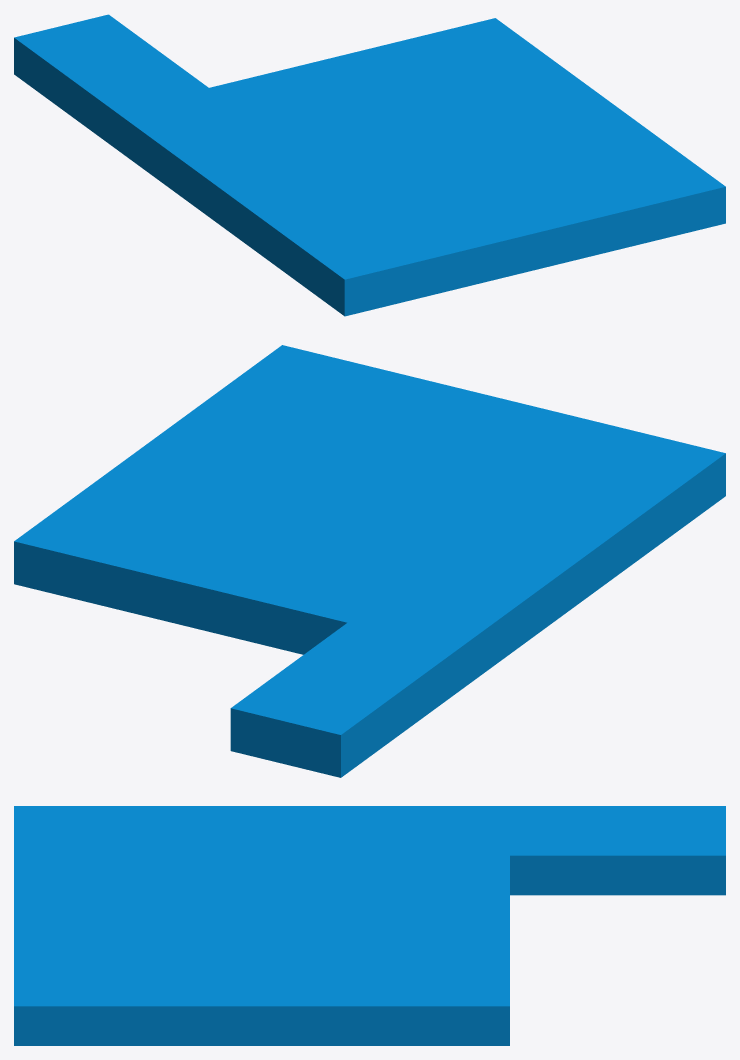
Rendered from Jigsaw_Color_03.fbx.
3 views of the same model, one above another, from view 1: azimuth 30°, elevation 25°; view 2: azimuth 150°, elevation 25°; view 3: azimuth 270°, elevation 25° (orthographic). The views are drawn at different scales.
Visible parts, largest first — view 1: Jigsaw_Color_03; view 2: Jigsaw_Color_03; view 3: Jigsaw_Color_03.
Boxes of the visible parts, x1,y1,x2,y2 form: Jigsaw_Color_03: (14,14,725,316); Jigsaw_Color_03: (14,345,725,777); Jigsaw_Color_03: (14,806,725,1045).
Bounding box in the file's own units: 21.75 × 2.01 × 32.69.
